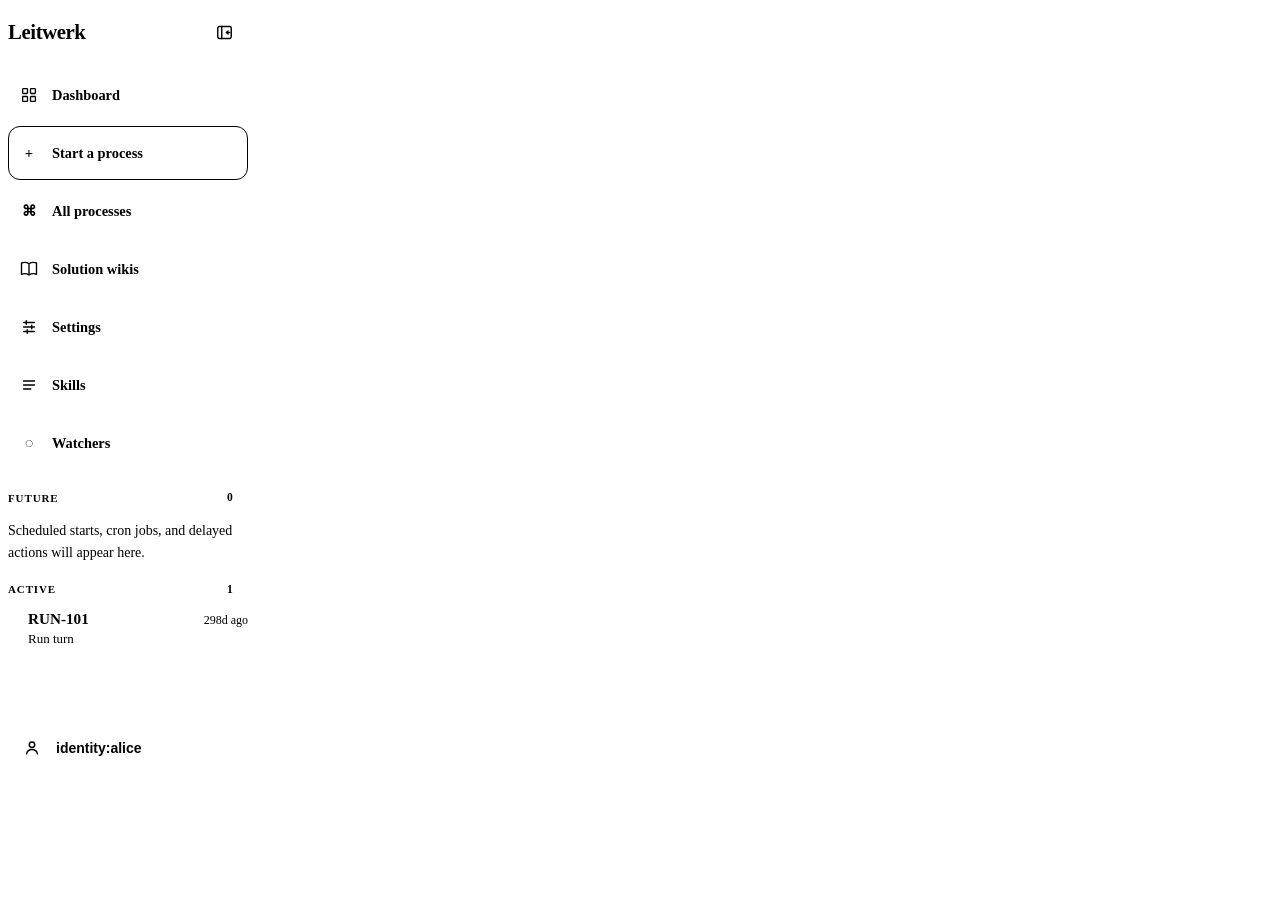
Sidebar › keeps only one popover open in the collapsed sidebar
Click the button named "Collapse sidebar". click: coordinates (224, 32)
box: [200, 8, 248, 56]
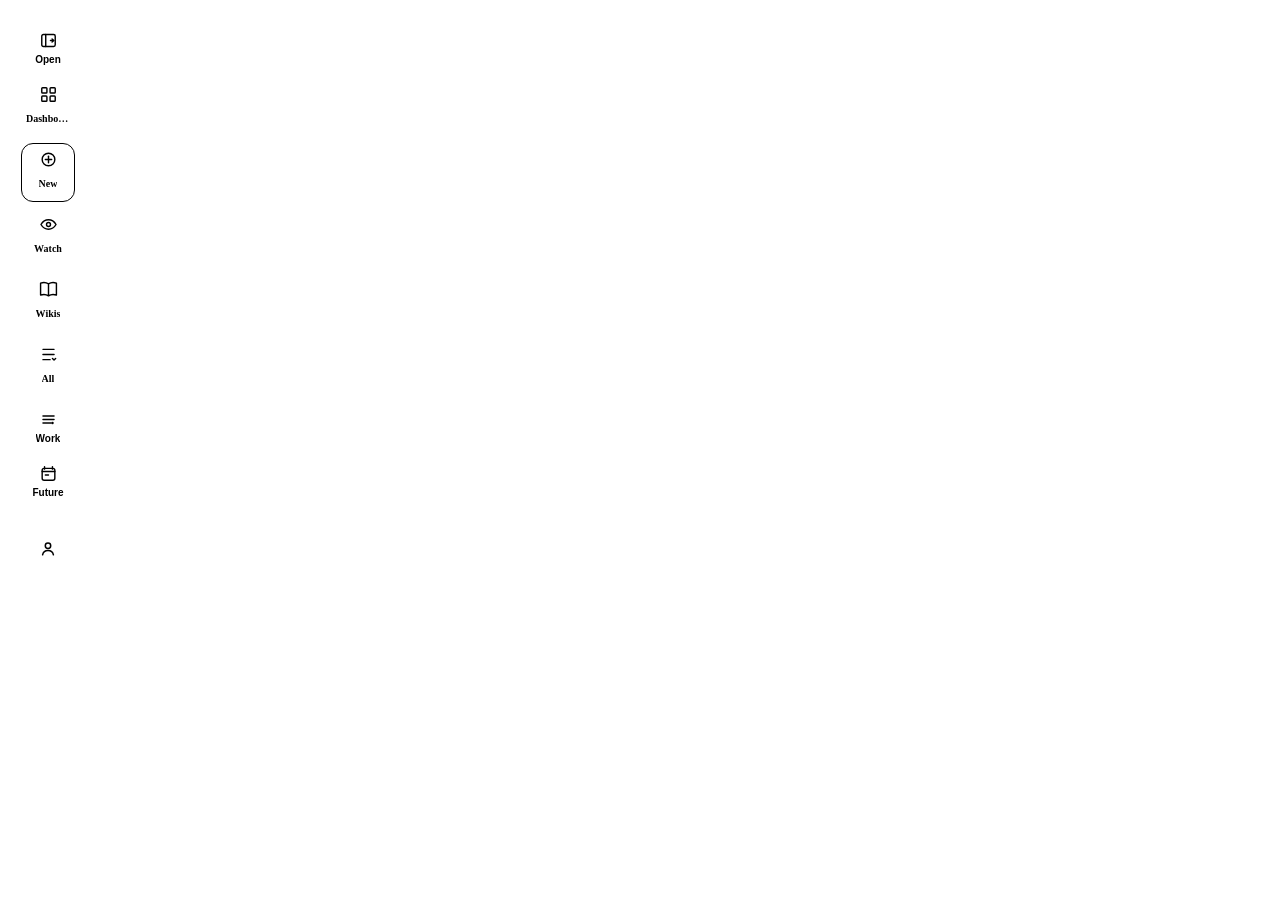
Click the button "Work". click: coordinates (48, 427)
box: [24, 403, 72, 451]
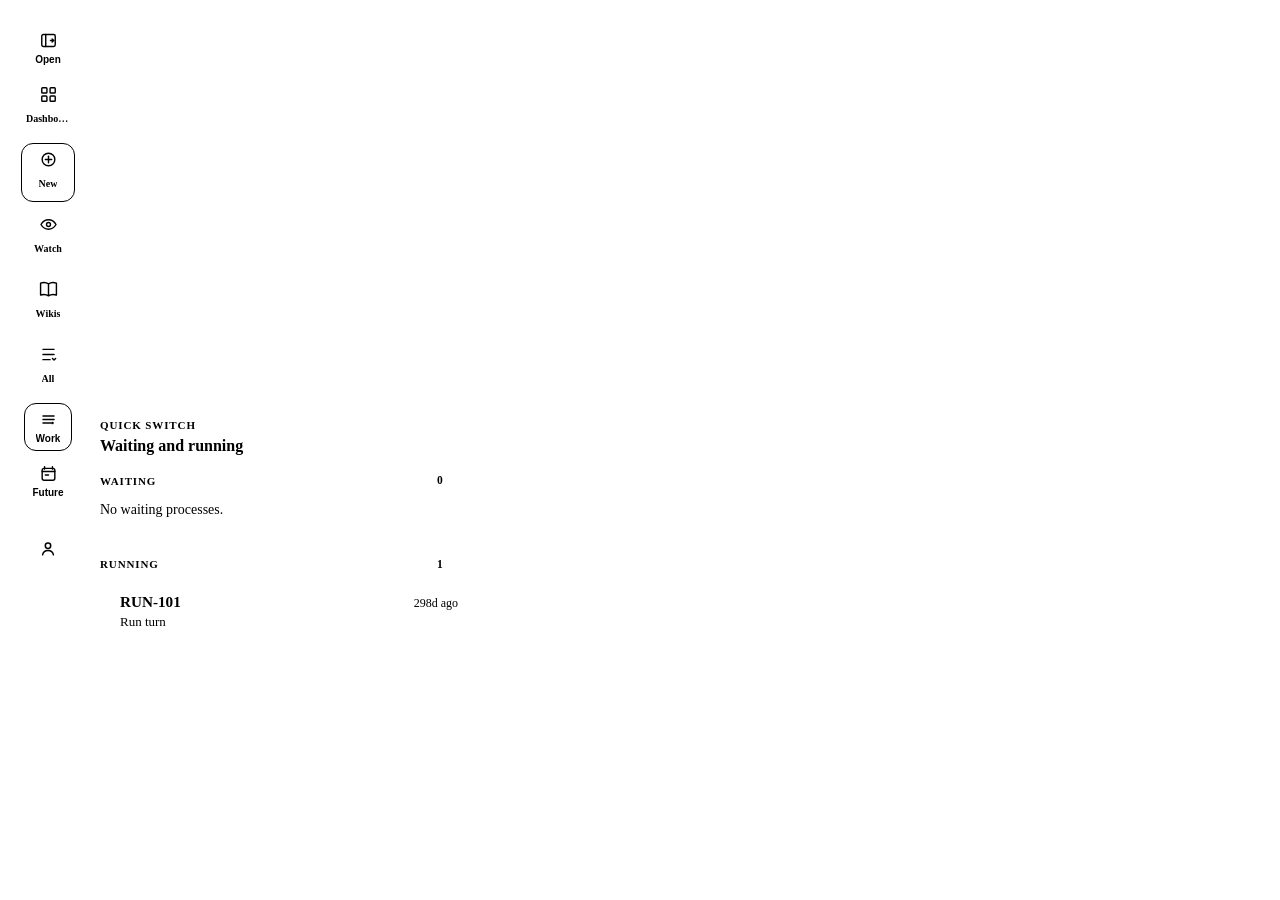
expect the dialog is shown: met, box [84, 403, 476, 660]
Click the button named "User menu for identity:alice". click: coordinates (48, 549)
box: [24, 525, 72, 573]
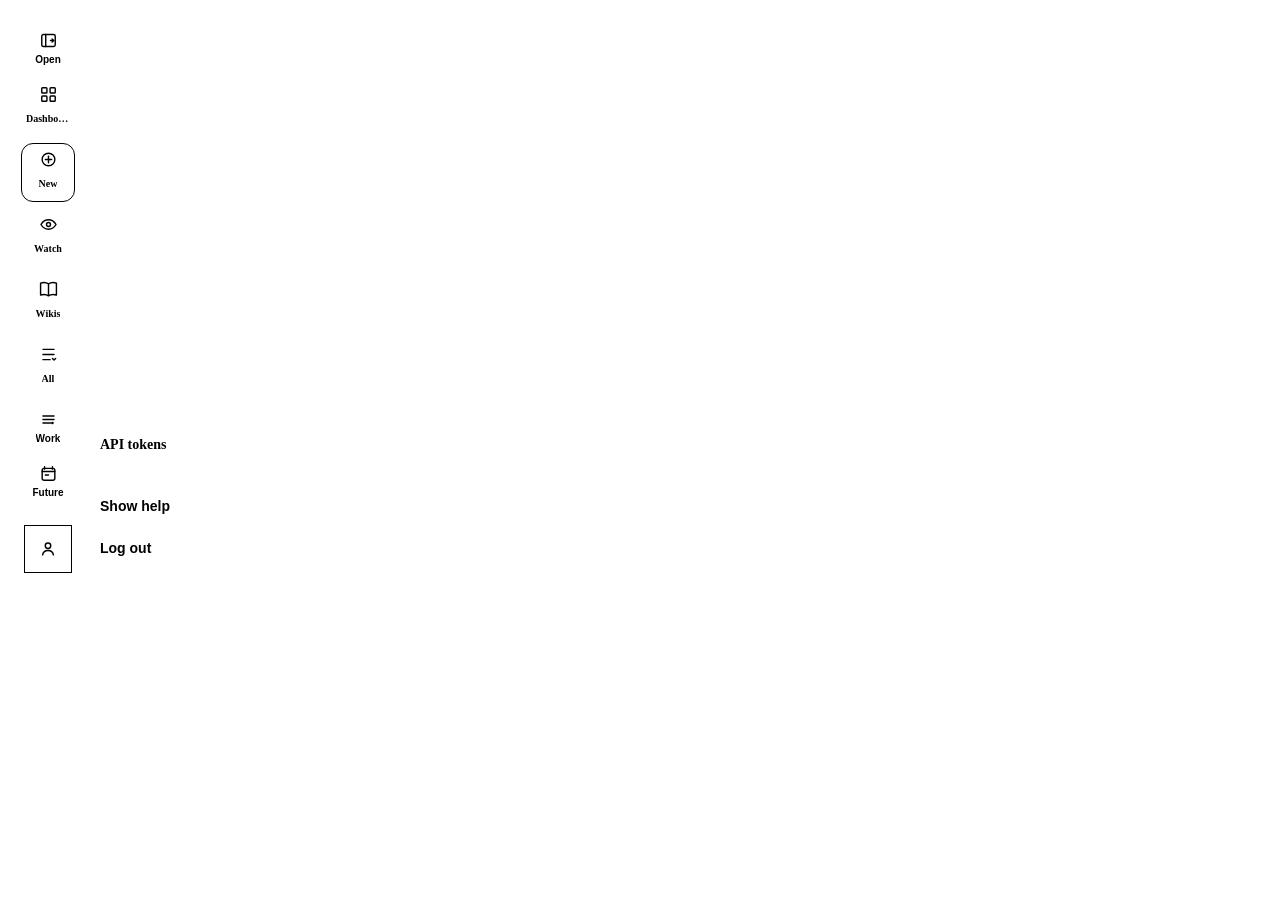
expect the dialog is gone: met
expect the dialog is shown: met, box [84, 423, 276, 573]
